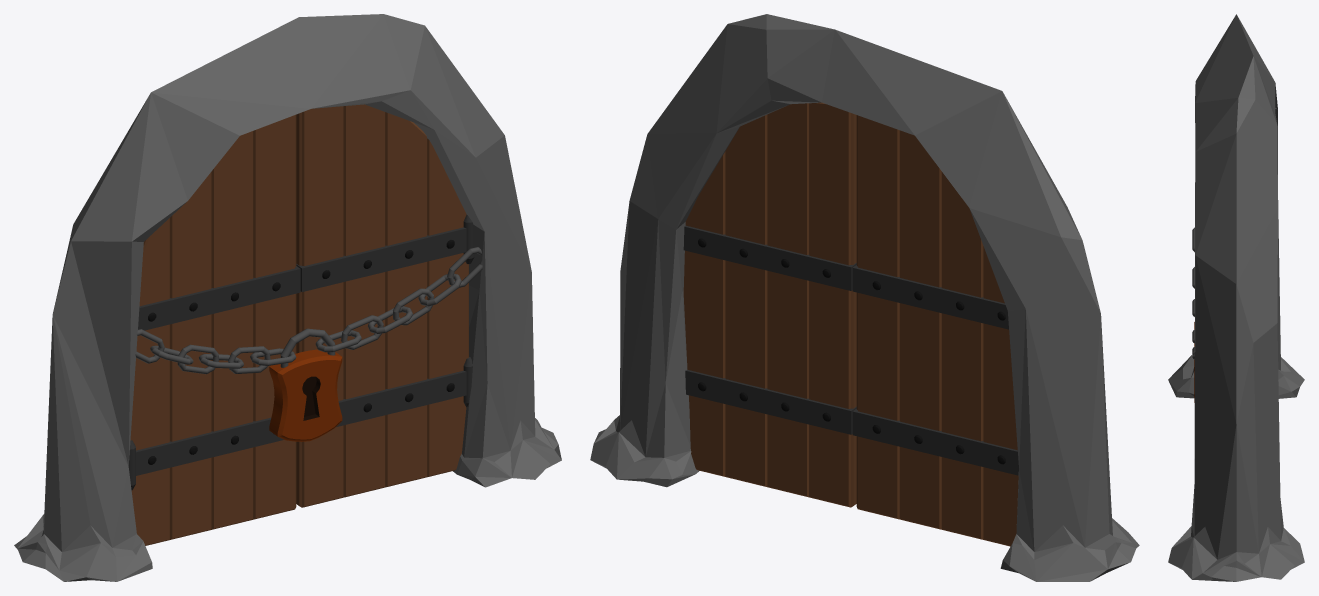
Rendered from Door.fbx.
The picture shows the model from 3 angles, left to right: view 1: azimuth 30°, elevation 25°; view 2: azimuth 150°, elevation 25°; view 3: azimuth 270°, elevation 25°; orthographic projection. The views are drawn at different scales.
Visible parts, largest first — view 1: Arch, Door_2, Door_1, Lock, Chain001, Chain; view 2: Arch, Door_2, Door_1; view 3: Arch.
Part boxes in pixels (x1,y1,x2,y2): Arch: (14, 14, 561, 581); Door_2: (296, 104, 474, 507); Door_1: (128, 114, 300, 545); Lock: (269, 349, 342, 441); Chain001: (315, 247, 482, 352); Chain: (135, 329, 296, 374); Arch: (590, 14, 1139, 581); Door_2: (683, 102, 856, 507); Door_1: (852, 115, 1018, 546); Arch: (1168, 14, 1304, 581).
Bounding box in the file's own units: 364 × 311 × 90.83.
